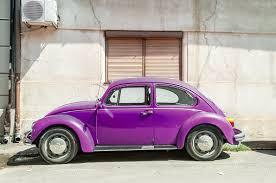volkswagen: (27, 77, 244, 163)
